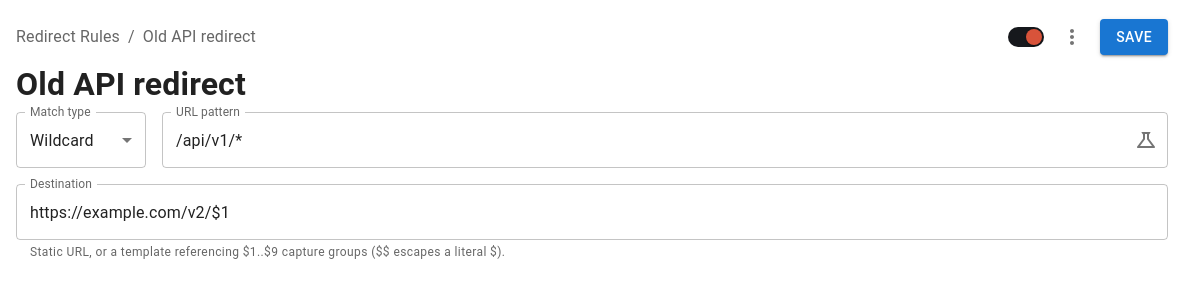
it: RedirectRuleEditorPage › edit mode › shows validation errors and does not save when the draft is invalid
This screenshot has width=1191, height=299.
Clear the field showing "Old API redirect": (592, 84) 16,57 -> 1168,112
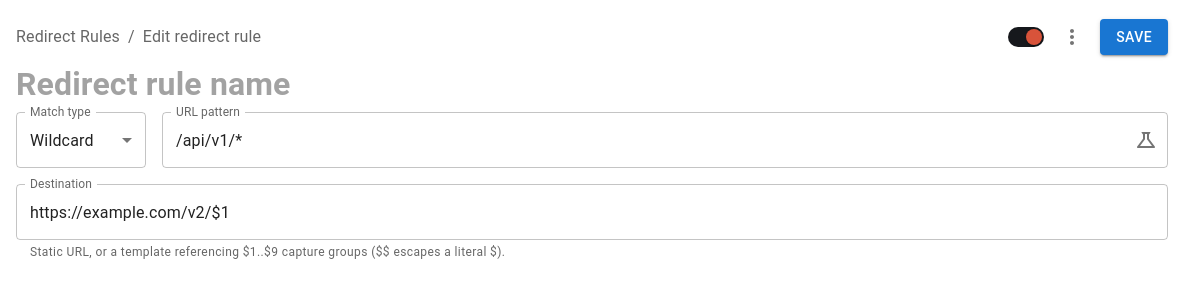
Click the button "Save": (1134, 37) 1100,19 -> 1168,55
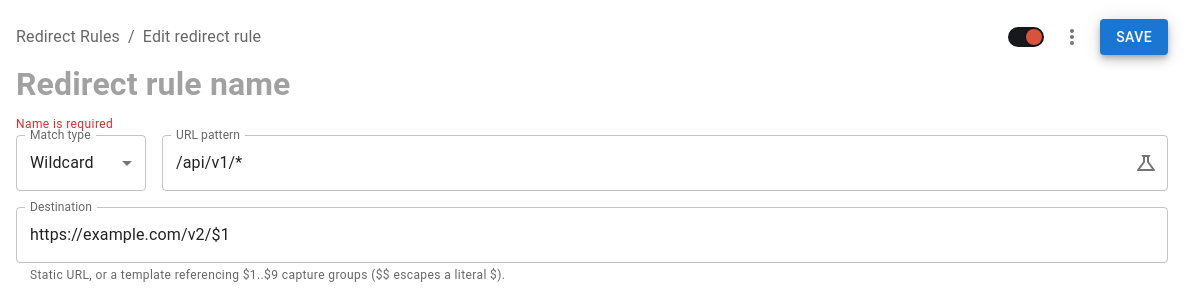
Expected: the text "Name is required" is shown, 16,117 -> 113,131
